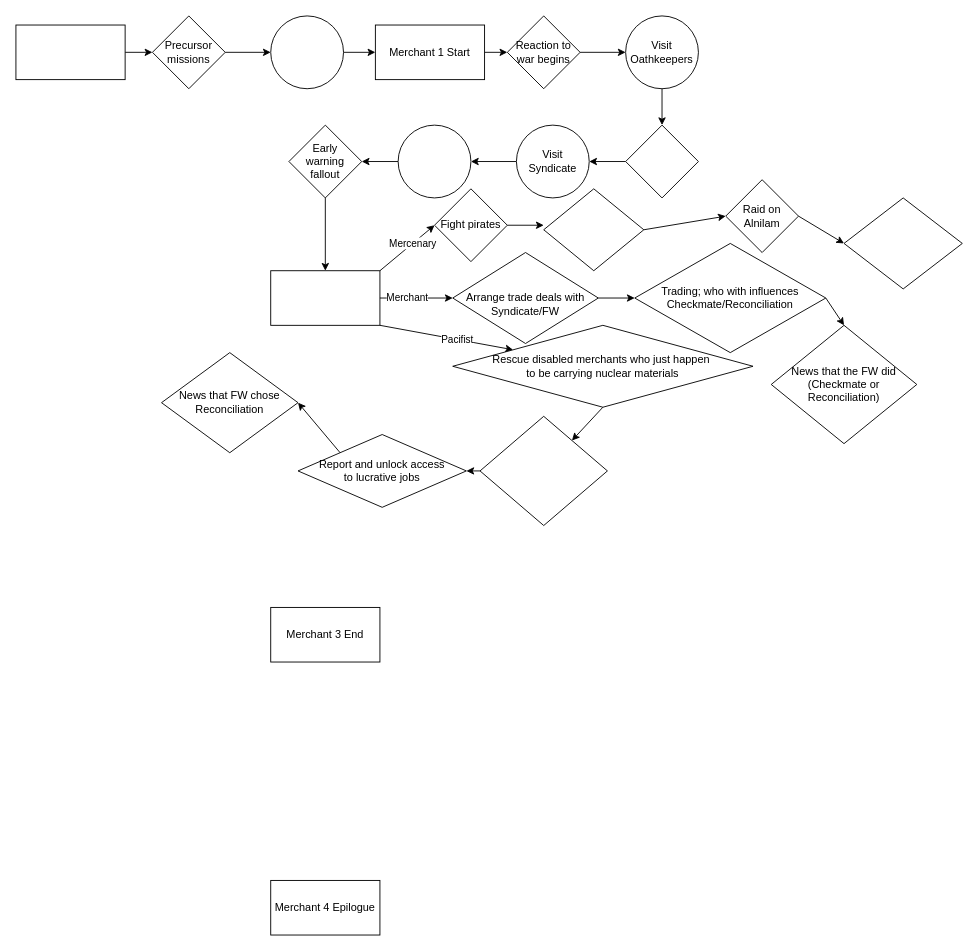
This 978x951 diagram has some shape labels left out. The shapes that lost their labels are listed below. From the top down, each one's box as (x1, y1, x2, y2) in pixels, then its label:
(15, 24, 125, 80): Merchant 0 Prologue
(270, 15, 344, 89): Join Republic Mercantile, choose branch
(397, 124, 471, 198): Syndicate tasks
(625, 124, 698, 198): Oathkeeper tasks
(543, 188, 644, 271): Get help from Oathkeepers
(843, 197, 962, 289): News that FW has started Checkmate
(270, 270, 380, 325): Merchant 2 Middle
(479, 415, 607, 526): Discover that the Syndicate has been building nukes
